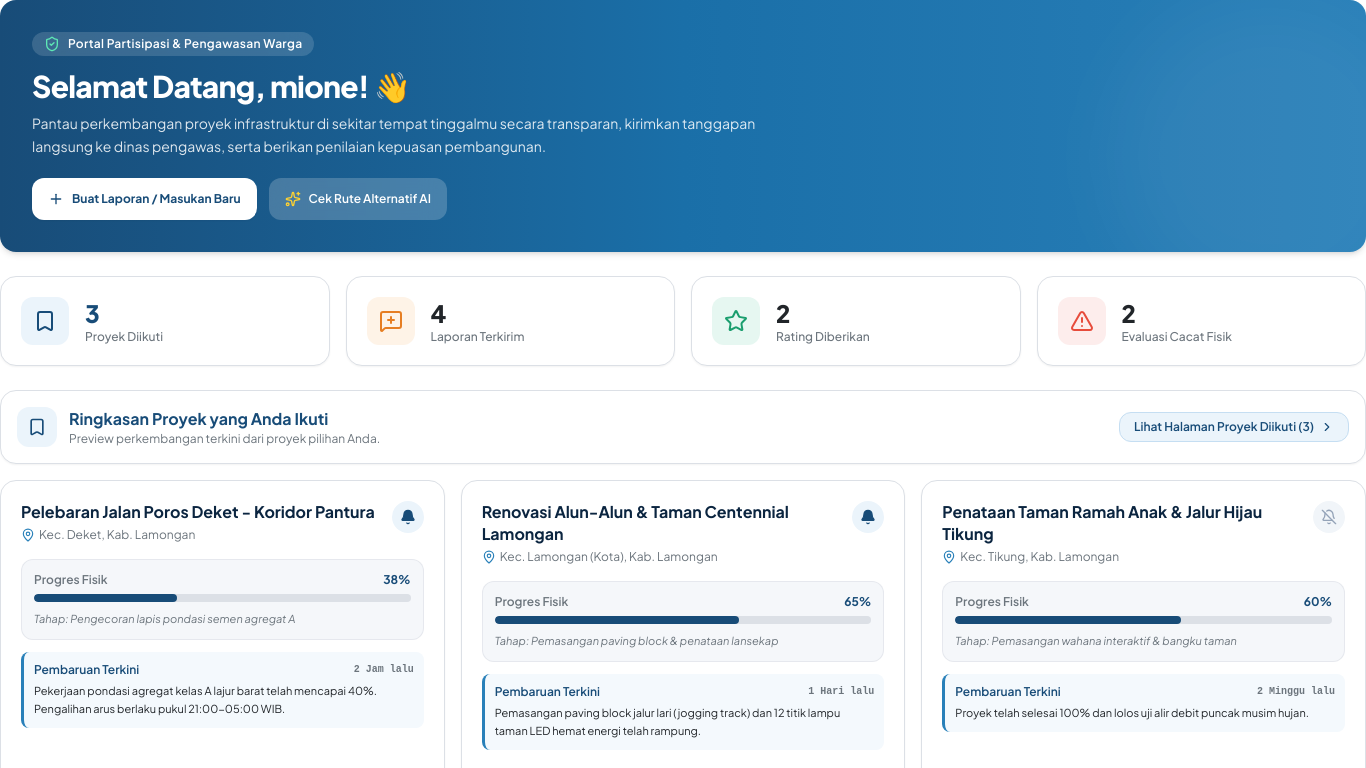
WargaDashboard › opens responsive modal when "+ Buat Laporan / Masukan Baru" is clicked and can be closed via X button
Note: Click "+ Buat Laporan / Masukan Baru"
Click the button "Buat Laporan / Masukan Baru".
click(144, 198)  # box top-left (32, 178), bottom-right (257, 220)
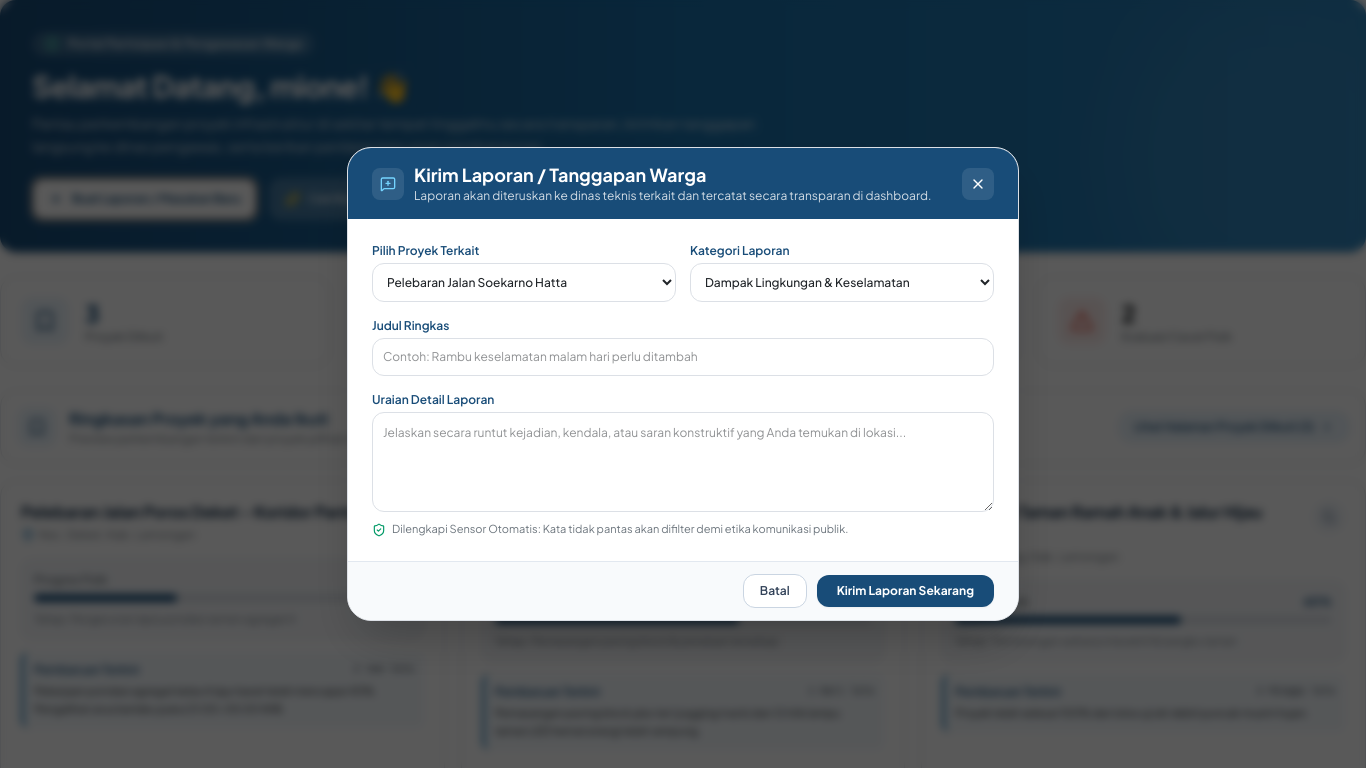
Check: the dialog is shown
Check: the heading "Kirim Laporan / Tanggapan Warga" is shown, box top-left (414, 163), bottom-right (706, 186)
Note: Close via X button
Click the button named "Tutup Modal".
click(978, 184)  # box top-left (962, 168), bottom-right (994, 200)
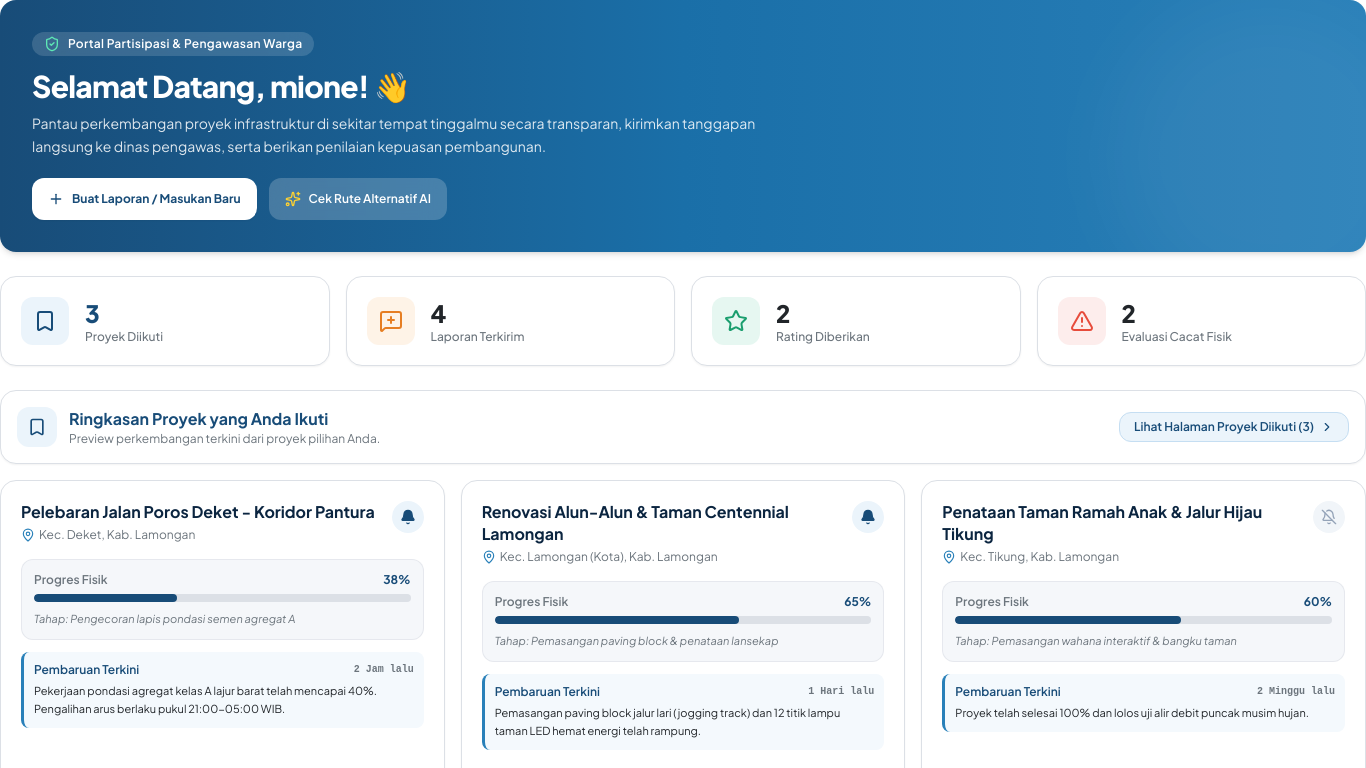
Check: the dialog is gone
